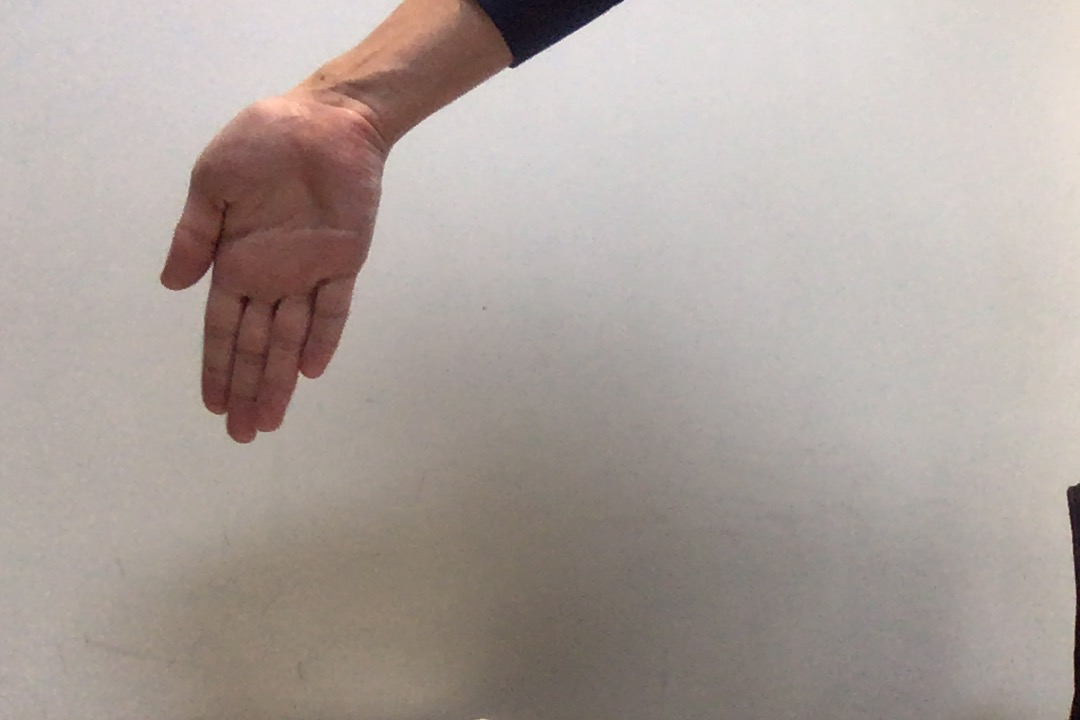palmhand: (155, 93, 388, 447)
